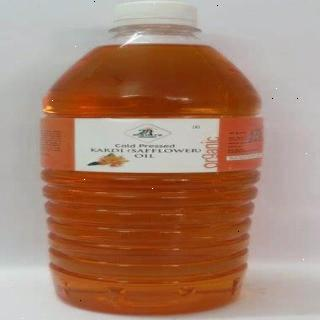Plastic-bottle: (33, 1, 267, 320)
